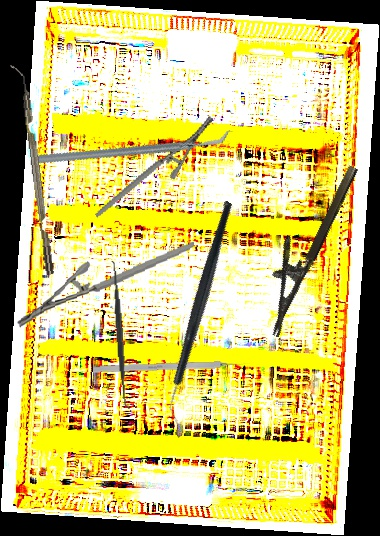Chopper: (101, 199, 303, 426), (31, 75, 233, 219), (10, 62, 54, 277)
Hook Surgical: (92, 360, 251, 373)
Needle Holder: (245, 154, 360, 338), (76, 113, 233, 219), (11, 242, 200, 328)
Spatula Surgical: (106, 260, 134, 410)
